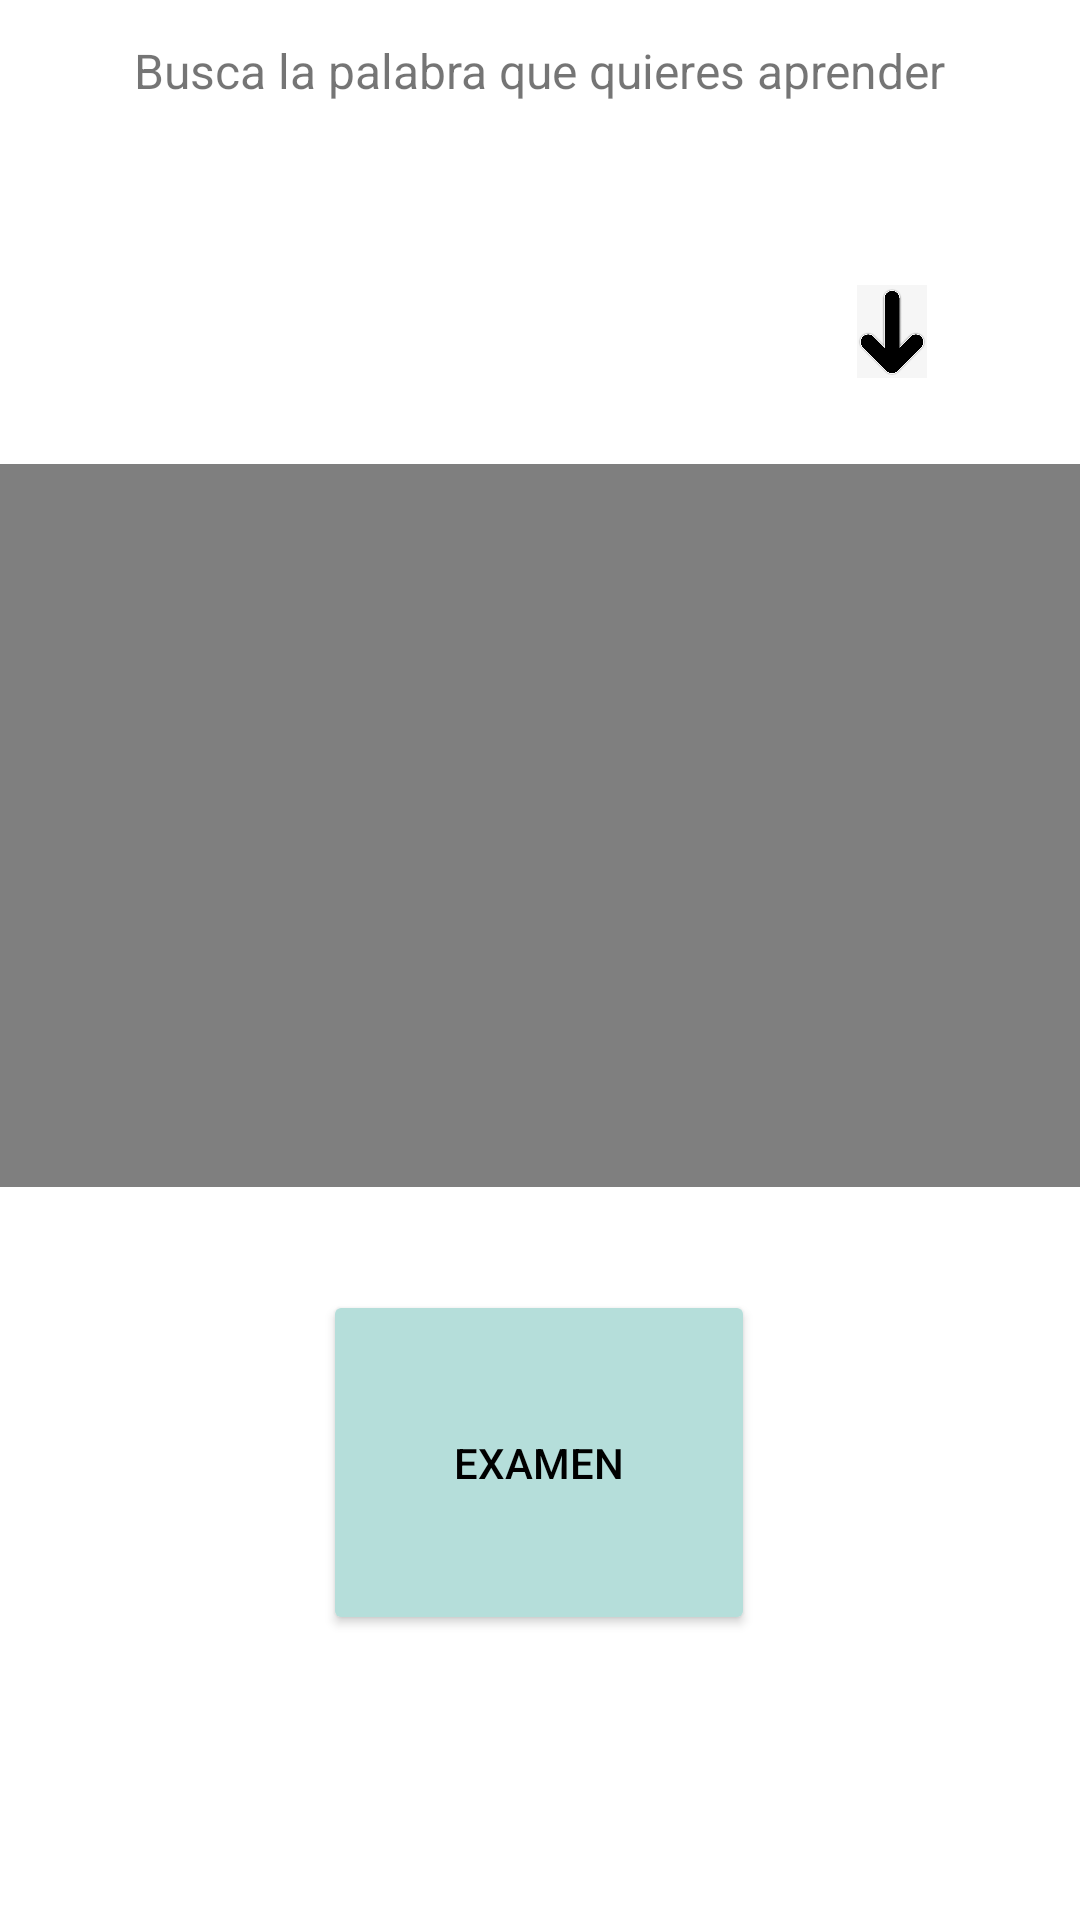

Icon click points for this 1080*1920 phone screenshot, format [x,y]:
flecha: [892,331]
